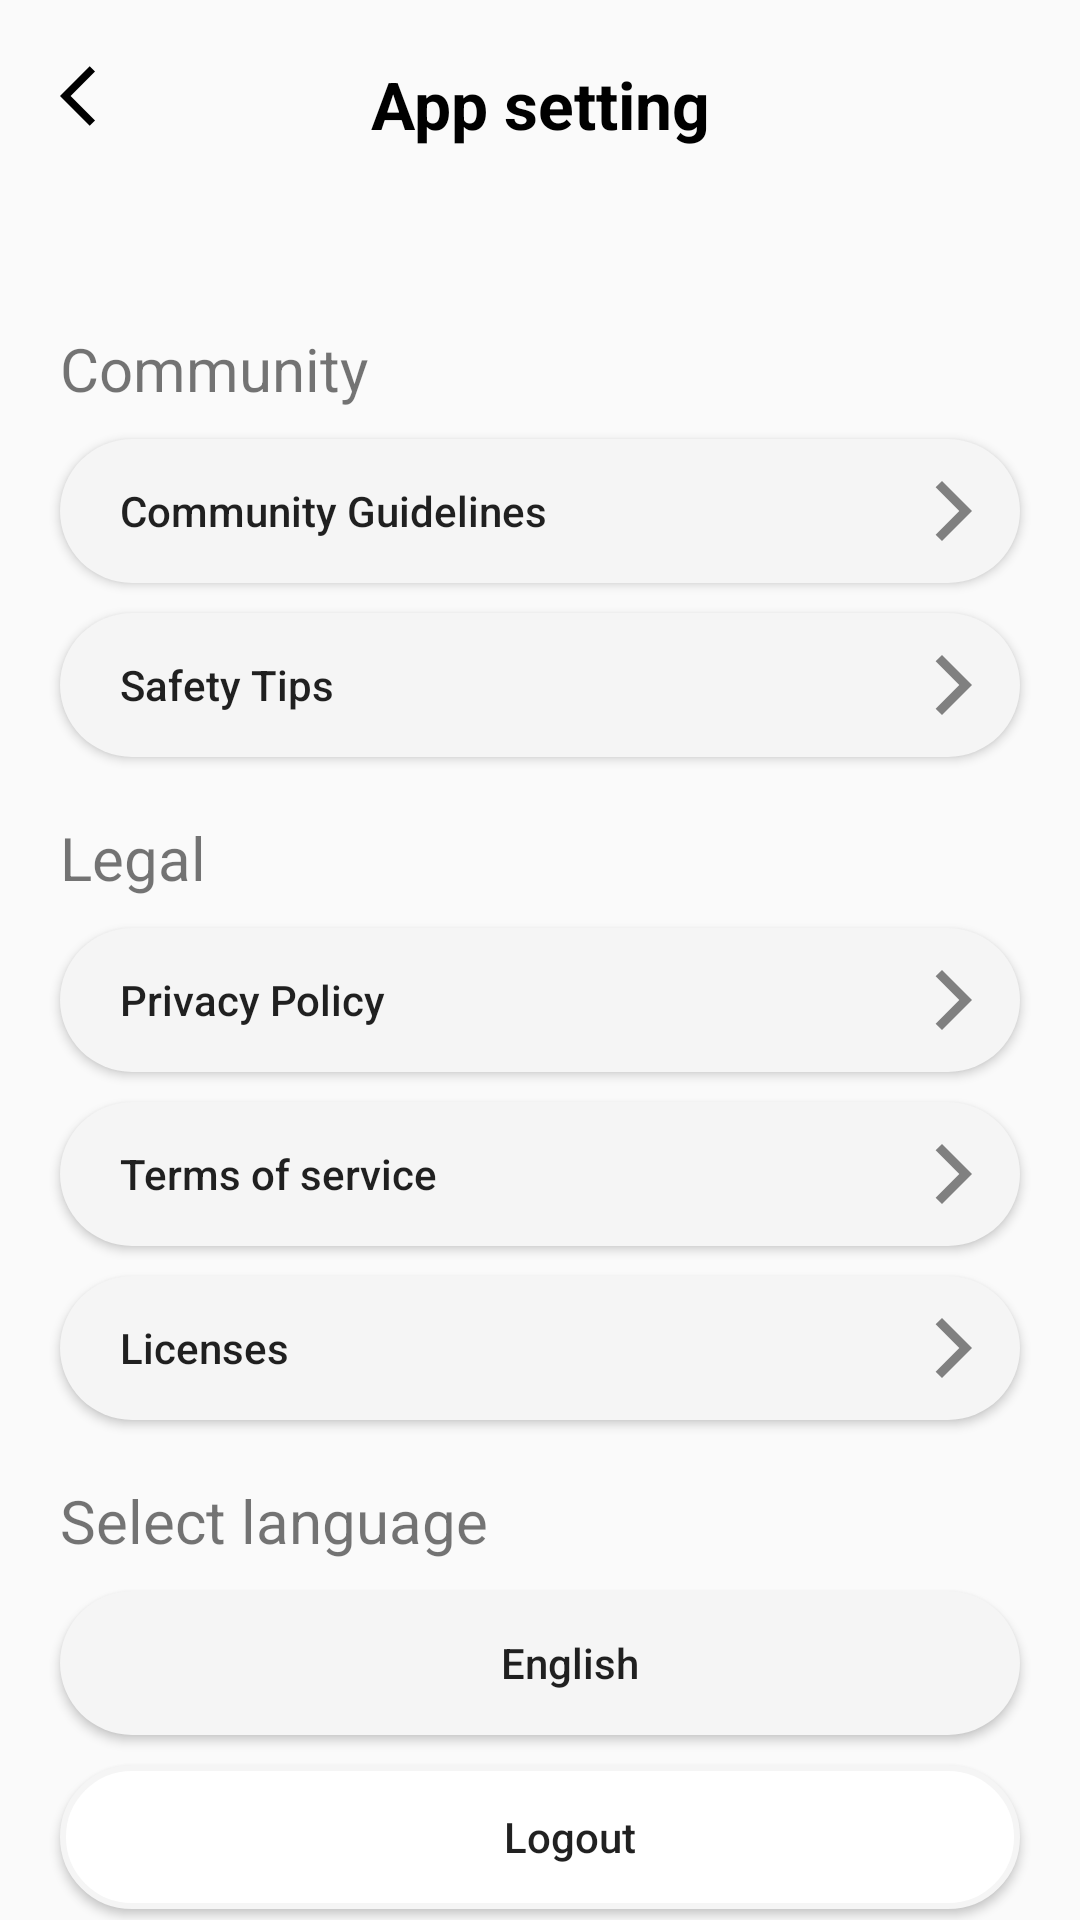

Named icons in this screenshot (1080px×1920px) and their bounding boxes, (x1, y1, x2, y2):
arrow: (60, 66, 95, 126)
